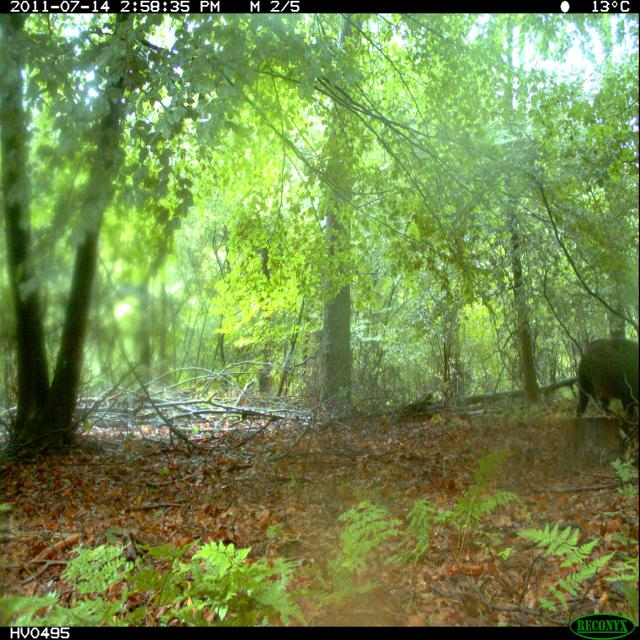boar: (563, 324, 640, 442)
